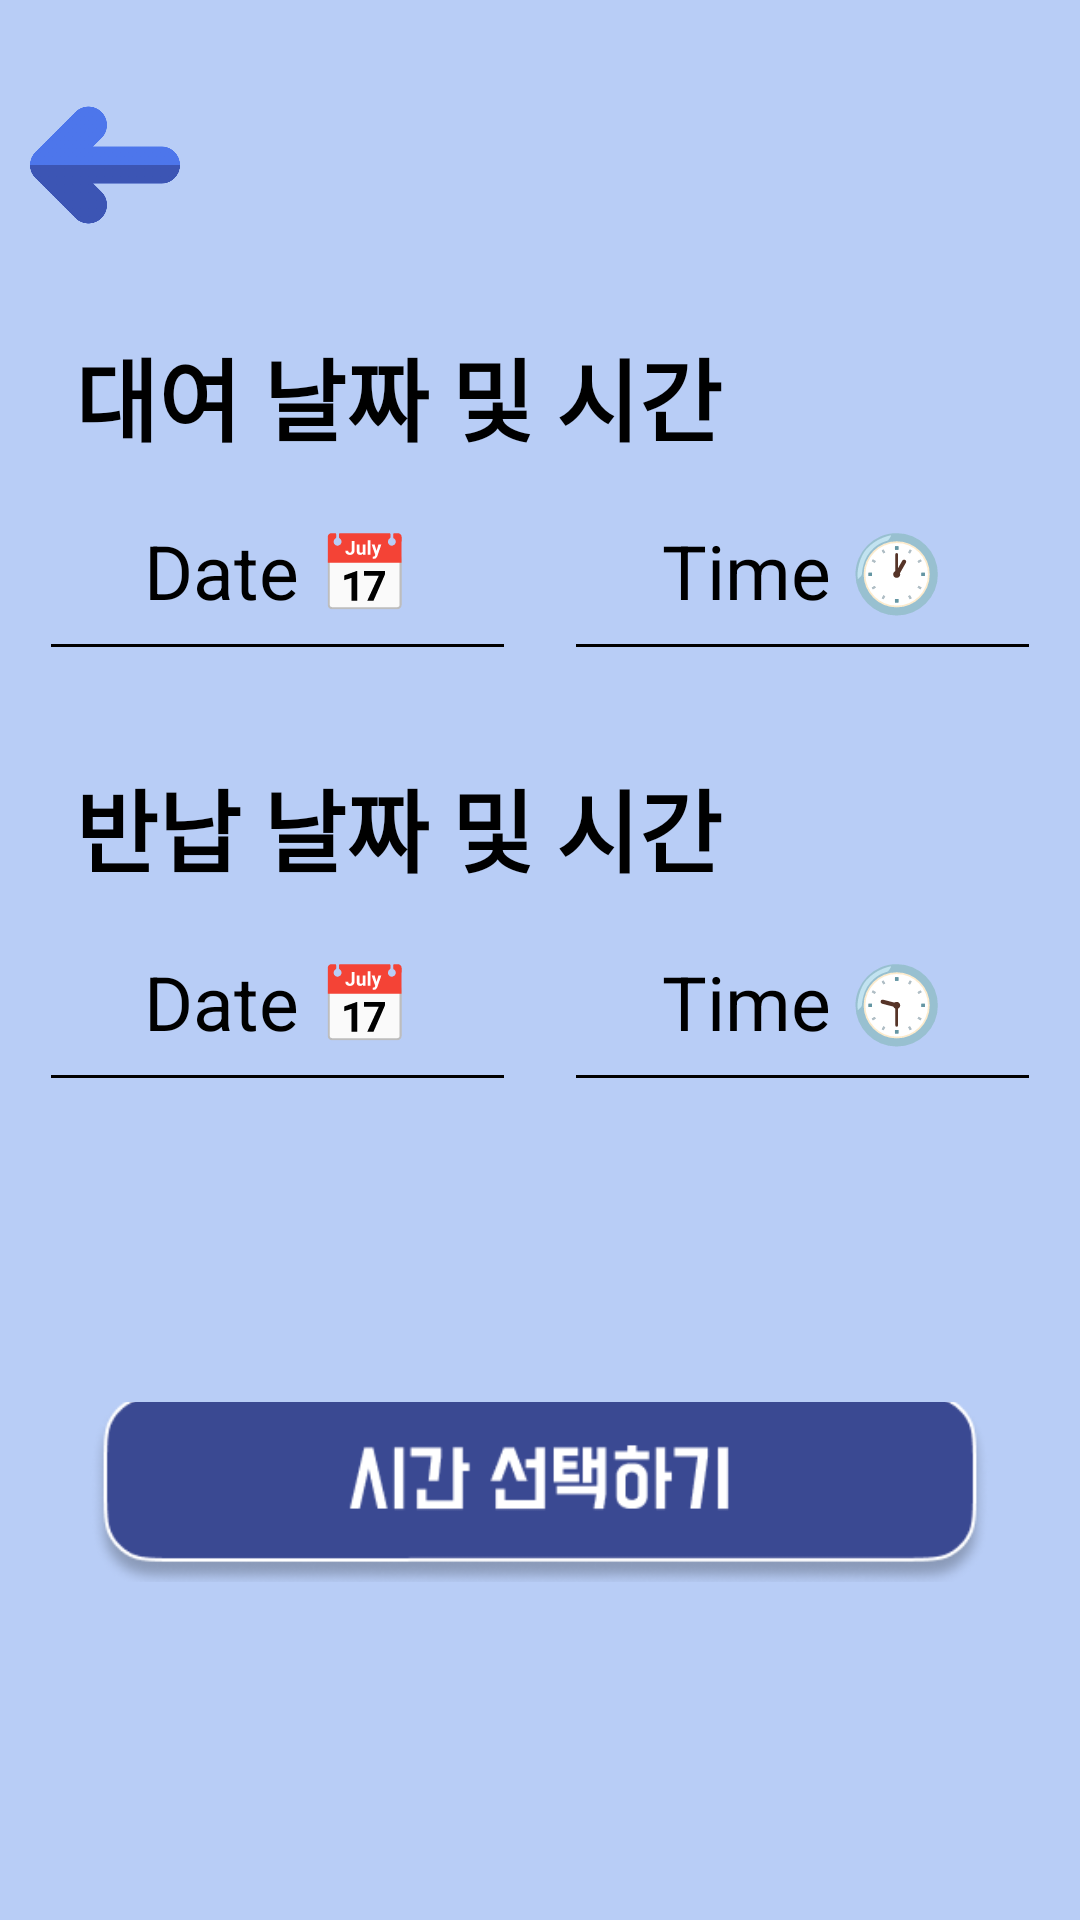

Screen size 1080 x 1920. Icon name, then its center in pixels as (x,y):
back: (105,165)
